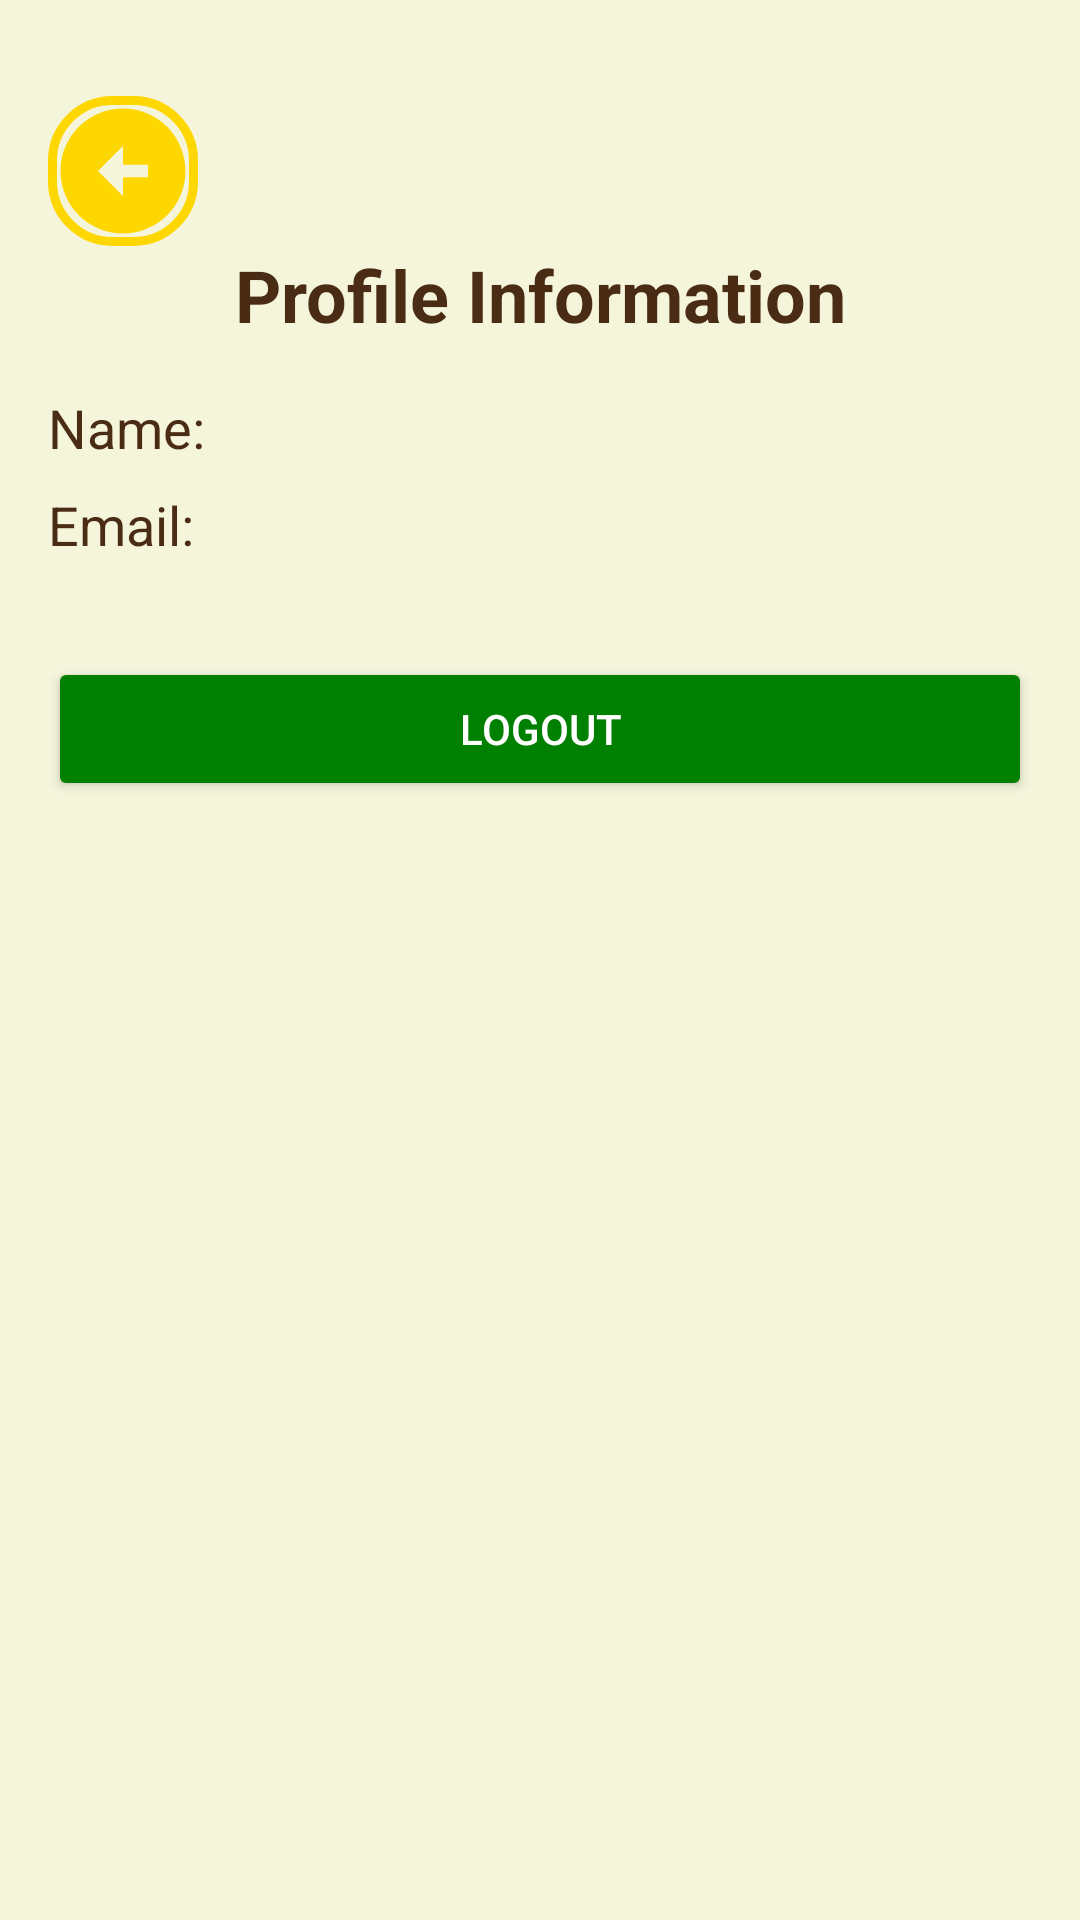

Icons on this 1080 × 1920 Android screen, each with its box as (x1, y1, x2, y2):
arrowback: (48, 96, 198, 246)
